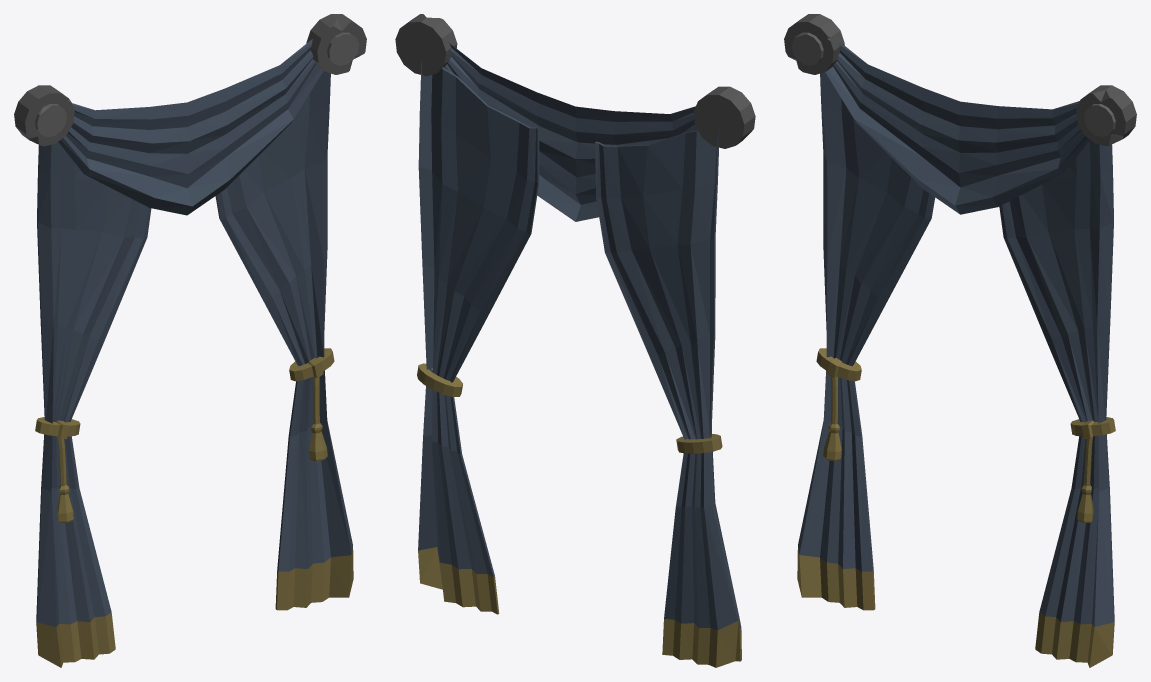
The model's file is SFCS_Mirror_Courtain_002.fbx.
3 renders of one model, left to right at view 1: azimuth 30°, elevation 25°; view 2: azimuth 150°, elevation 25°; view 3: azimuth 330°, elevation 25°, orthographic. The views are drawn at different scales.
Visible parts, largest first — view 1: SFCS_Mirror_Courtain_002; view 2: SFCS_Mirror_Courtain_002; view 3: SFCS_Mirror_Courtain_002.
Part boxes in pixels (box(x1,y1,x2,y2)): SFCS_Mirror_Courtain_002: box(14, 14, 366, 667); SFCS_Mirror_Courtain_002: box(395, 14, 755, 667); SFCS_Mirror_Courtain_002: box(784, 14, 1136, 667).
Size of the model in its own units: 137 by 220 by 18.43.
